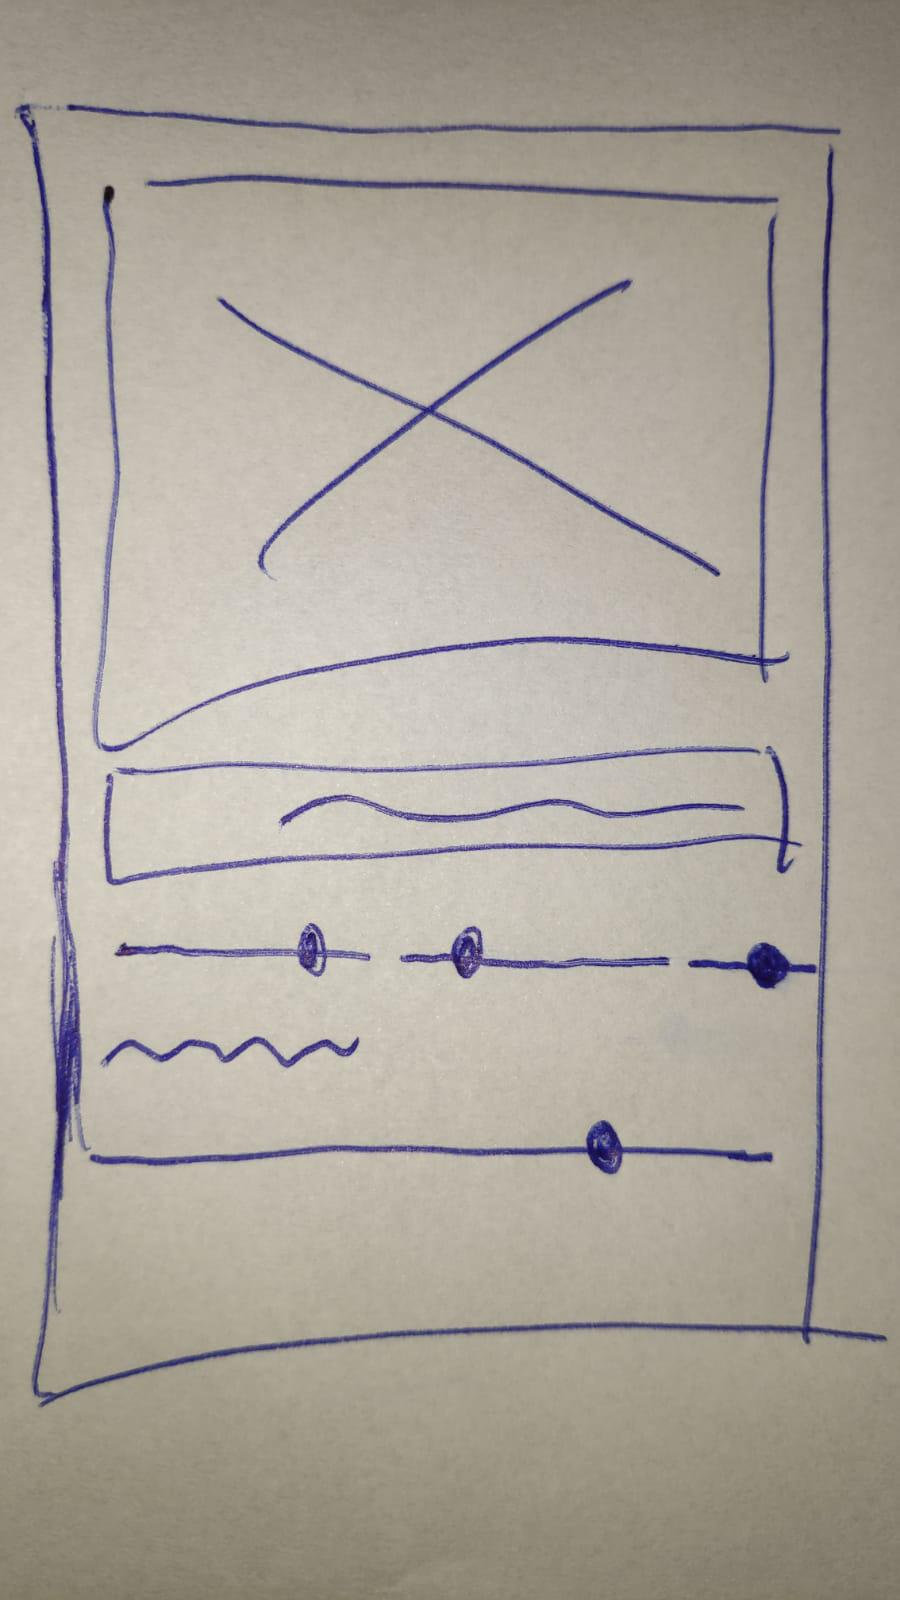Button: (102, 744, 789, 888)
Image: (88, 174, 780, 752)
Label: (101, 1035, 363, 1068)
Screen: (16, 99, 835, 1398)
Slider: (90, 1116, 773, 1175), (399, 924, 669, 979), (116, 924, 371, 979), (687, 940, 819, 991)
